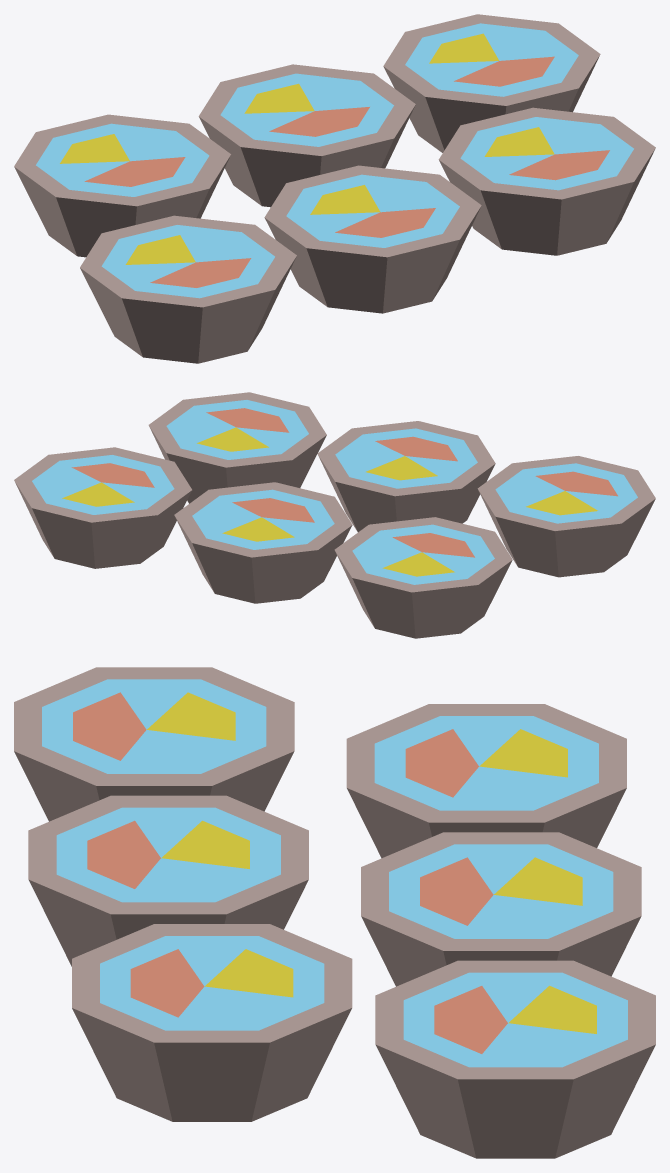
File: item_produce_dye_c.obj
3 renders of one model, top to bottom at view 1: azimuth 30°, elevation 25°; view 2: azimuth 150°, elevation 25°; view 3: azimuth 270°, elevation 25°, orthographic. The views are drawn at different scales.
Size of the model in its own units: 0.8964 by 0.0998 by 0.5905.
